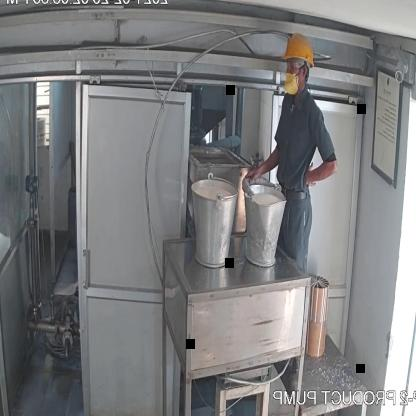helmet: (279, 28, 318, 71)
